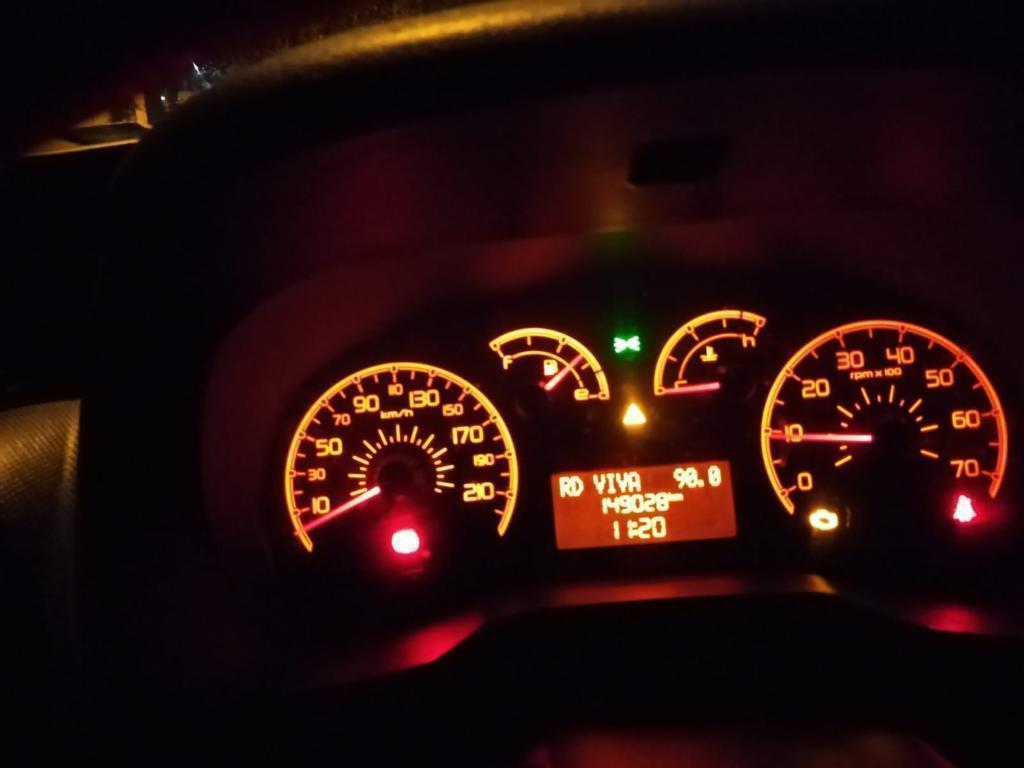,: (696, 479, 704, 488)
0: (651, 516, 666, 537), (707, 465, 721, 486), (685, 467, 698, 488), (631, 494, 644, 513)
1: (626, 519, 633, 539), (612, 520, 619, 540), (601, 497, 607, 514)
2: (638, 516, 651, 538), (644, 493, 655, 512)
4: (607, 496, 619, 513)
8: (655, 492, 668, 511)
9: (672, 467, 685, 489), (619, 494, 631, 514)
X: (570, 475, 584, 496), (592, 473, 605, 495), (558, 476, 571, 497), (628, 471, 641, 492), (615, 472, 628, 492), (606, 472, 616, 493), (632, 521, 638, 536), (676, 492, 684, 502), (669, 491, 675, 502)
odometer: (548, 458, 738, 552)
